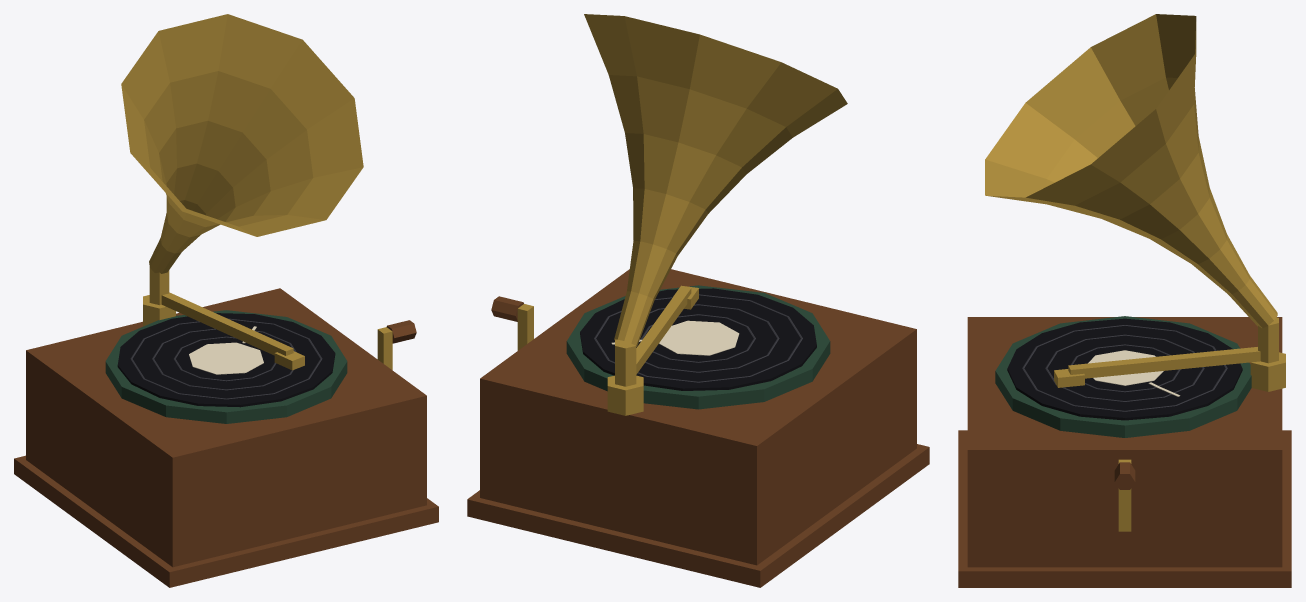
The model's file is Prop_YTM_RecordPlayer_Scratched_LOD1.glb.
The picture shows the model from 3 angles, left to right: view 1: azimuth 30°, elevation 25°; view 2: azimuth 150°, elevation 25°; view 3: azimuth 270°, elevation 25°; orthographic projection. The views are drawn at different scales.
Parts seen in each view (by area): view 1: Prop_YTM_RecordPlayer_Scratched, Prop_YTM_RecordPlayer_Scratched_Record, Prop_YTM_RecordPlayer_Scratched_Crank; view 2: Prop_YTM_RecordPlayer_Scratched, Prop_YTM_RecordPlayer_Scratched_Record, Prop_YTM_RecordPlayer_Scratched_Crank; view 3: Prop_YTM_RecordPlayer_Scratched, Prop_YTM_RecordPlayer_Scratched_Record, Prop_YTM_RecordPlayer_Scratched_Crank.
Part boxes in pixels (x1,y1,x2,y2): Prop_YTM_RecordPlayer_Scratched: (14, 14, 438, 587); Prop_YTM_RecordPlayer_Scratched_Record: (117, 313, 335, 407); Prop_YTM_RecordPlayer_Scratched_Crank: (377, 320, 416, 369); Prop_YTM_RecordPlayer_Scratched: (467, 14, 929, 587); Prop_YTM_RecordPlayer_Scratched_Record: (580, 288, 816, 390); Prop_YTM_RecordPlayer_Scratched_Crank: (491, 296, 533, 350); Prop_YTM_RecordPlayer_Scratched: (958, 14, 1291, 587); Prop_YTM_RecordPlayer_Scratched_Record: (1007, 318, 1242, 420); Prop_YTM_RecordPlayer_Scratched_Crank: (1114, 459, 1135, 531).
Bounding box in the file's own units: 0.428 × 0.5766 × 0.36.
